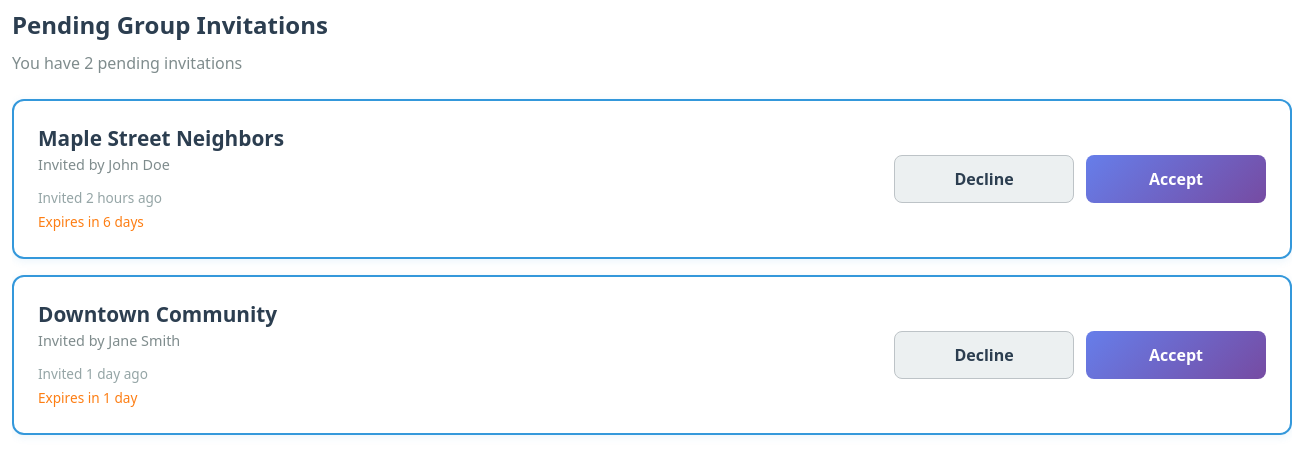
Test: PendingInvitations › disables buttons during processing
Expected: the heading "Maple Street Neighbors" is shown, top-left (38, 124), bottom-right (284, 152)
Click the button "Accept" in the row of "John Doe": (1176, 179) top-left (1086, 155), bottom-right (1266, 203)
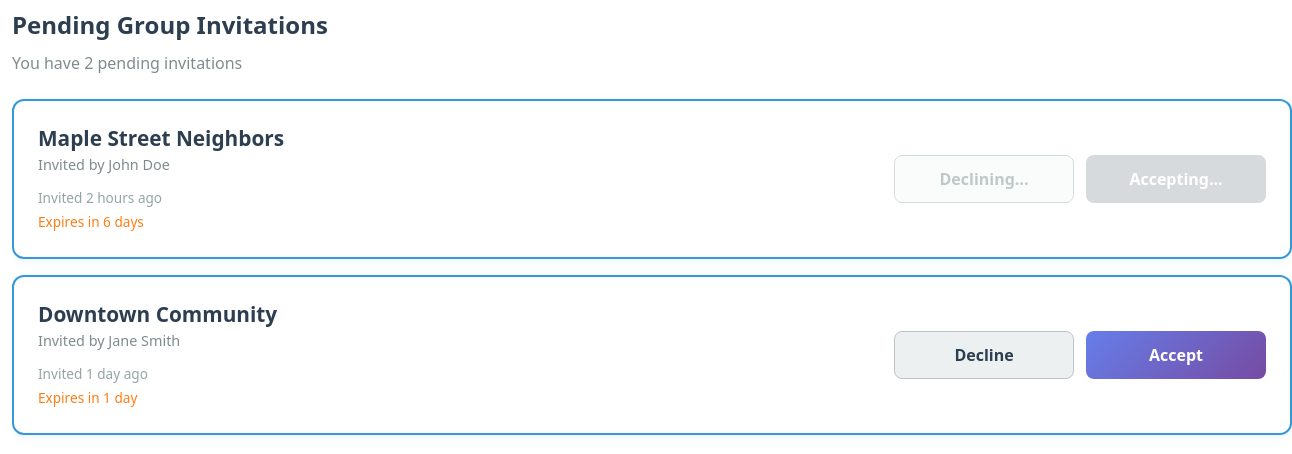
Expected: the button "Accept" is enabled, top-left (1086, 331), bottom-right (1266, 379)
Expected: the button "Accepting..." is disabled, top-left (1086, 155), bottom-right (1266, 203)
Expected: the button "Decline" is disabled, top-left (894, 155), bottom-right (1074, 203)
